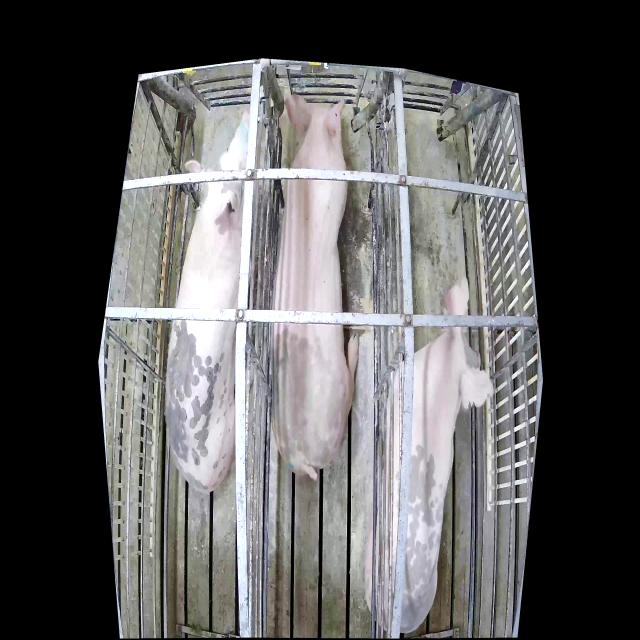pig: (365, 278, 494, 634), (167, 112, 261, 494), (272, 94, 360, 489)
